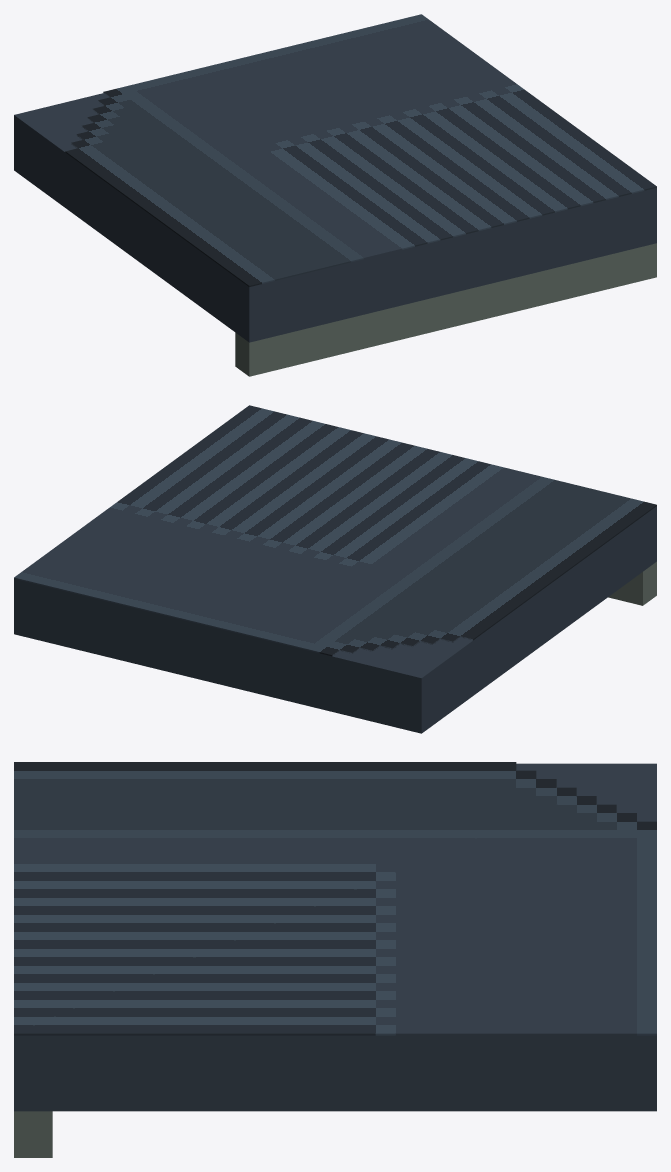
The model's file is CMU3DInteriorVehicleBoxVanRoof4.glb.
3 renders of one model, top to bottom at view 1: azimuth 30°, elevation 25°; view 2: azimuth 150°, elevation 25°; view 3: azimuth 270°, elevation 25°, orthographic. The views are drawn at different scales.
Visible parts, largest first — view 1: overhead armor source finish, overhead armor, inner roof rib; view 2: overhead armor source finish, overhead armor, inner roof rib; view 3: overhead armor source finish, overhead armor, inner roof rib.
Boxes of the visible parts, x1,y1,x2,y2 form: overhead armor source finish: (65, 14, 656, 286); overhead armor: (14, 93, 656, 342); inner roof rib: (235, 243, 656, 376); overhead armor source finish: (14, 405, 656, 656); overhead armor: (14, 506, 656, 733); inner roof rib: (608, 561, 656, 605); overhead armor source finish: (14, 762, 656, 1035); overhead armor: (14, 763, 656, 1111); inner roof rib: (14, 1111, 52, 1157).
Size of the model in its own units: 1 by 0.213 by 1.
Materials: 3 (1 with a texture image).
